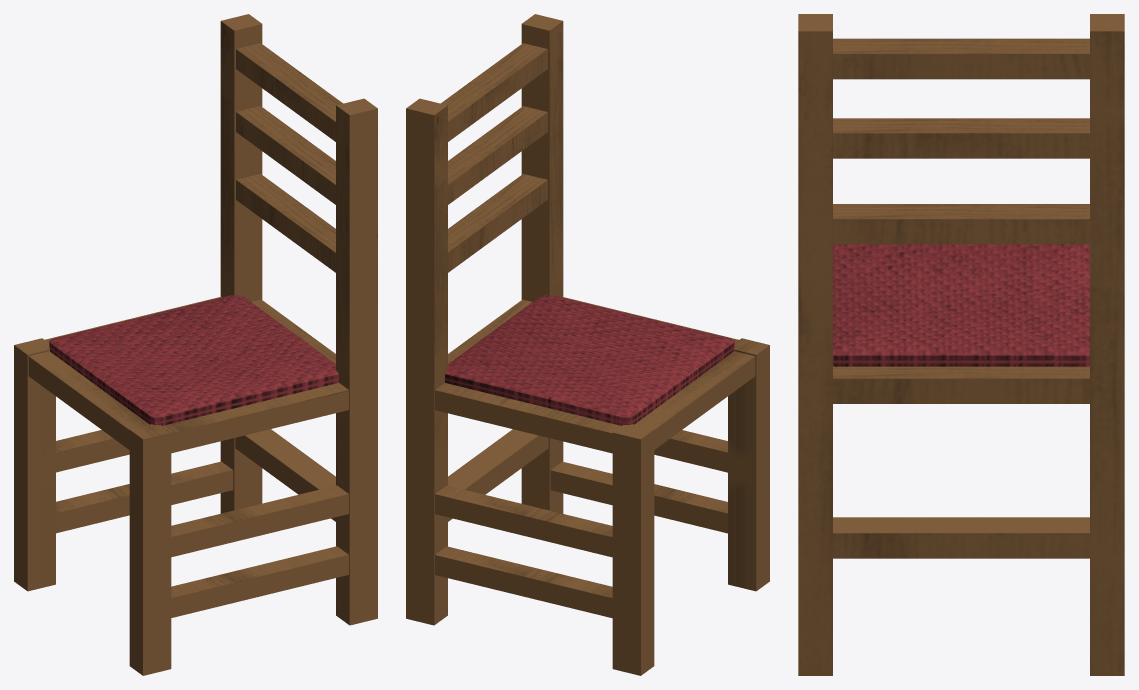
Rendered from sillaMadera2.fbx.
3 renders of one model, left to right at view 1: azimuth 30°, elevation 25°; view 2: azimuth 150°, elevation 25°; view 3: azimuth 270°, elevation 25°, orthographic. The views are drawn at different scales.
Visible parts, largest first — view 1: sillaMadera2; view 2: sillaMadera2; view 3: sillaMadera2.
Boxes of the visible parts, x1,y1,x2,y2 form: sillaMadera2: (14,14,377,675); sillaMadera2: (406,14,769,675); sillaMadera2: (798,14,1124,675).
Bounding box in the file's own units: 742 × 1540 × 706.
